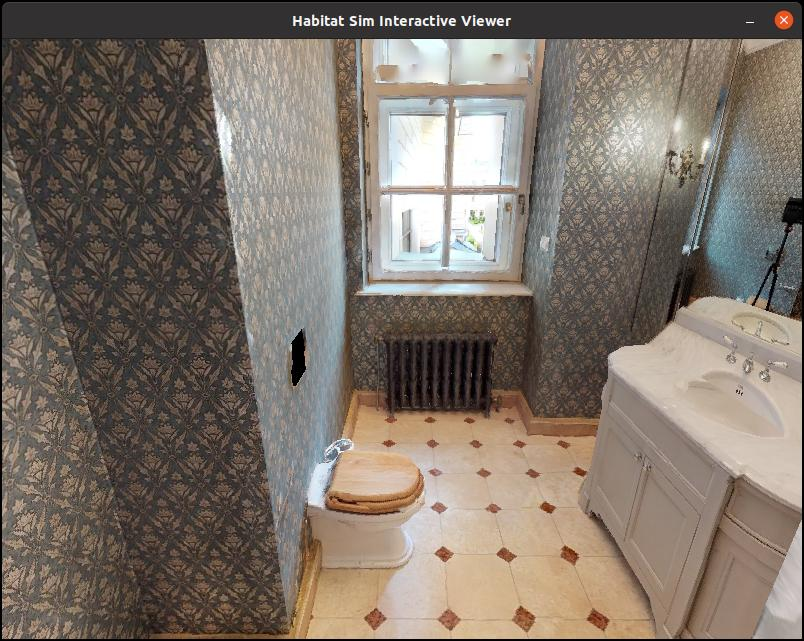sink: (587, 290, 804, 513)
toilet: (282, 427, 435, 596)
